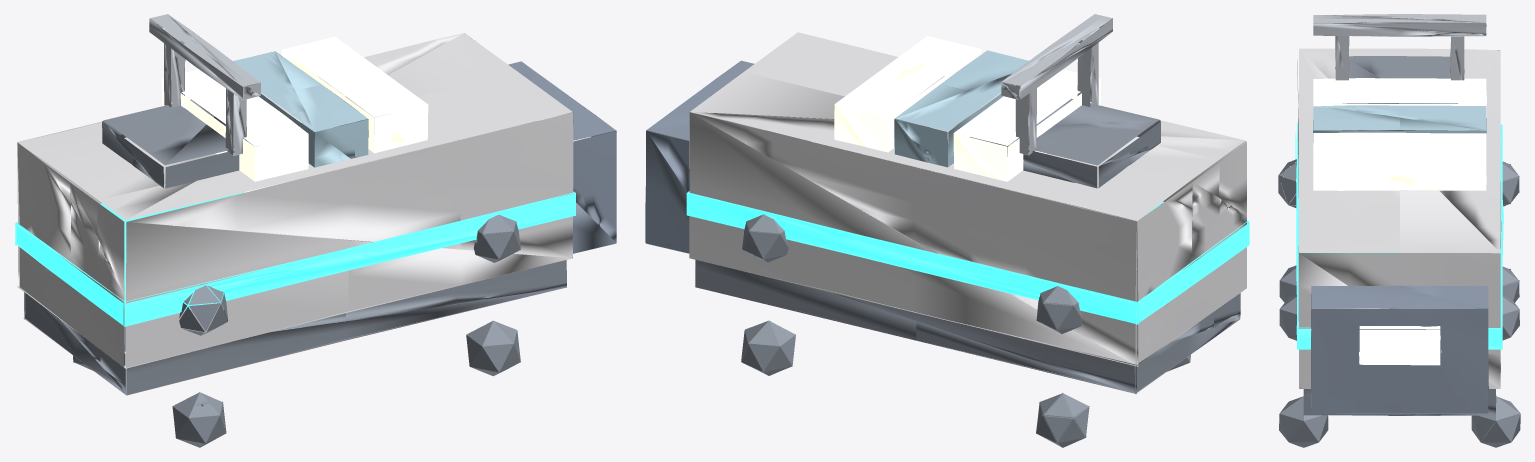
The model's file is loco.glb.
3 views of the same model, side by side, from view 1: azimuth 30°, elevation 25°; view 2: azimuth 150°, elevation 25°; view 3: azimuth 270°, elevation 25° (orthographic). The views are drawn at different scales.
Visible parts, largest first — view 1: MetroLoco; view 2: MetroLoco; view 3: MetroLoco.
Boxes of the visible parts, left/top/right/bottom form: MetroLoco: left=14, top=14, right=616, bottom=447; MetroLoco: left=645, top=14, right=1249, bottom=447; MetroLoco: left=1278, top=14, right=1520, bottom=447.
Size of the model in its own units: 2.84 by 1.85 by 1.26.
